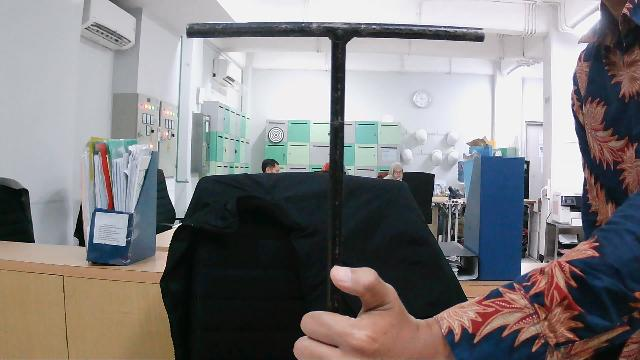kunci_t: (169, 10, 499, 359)
